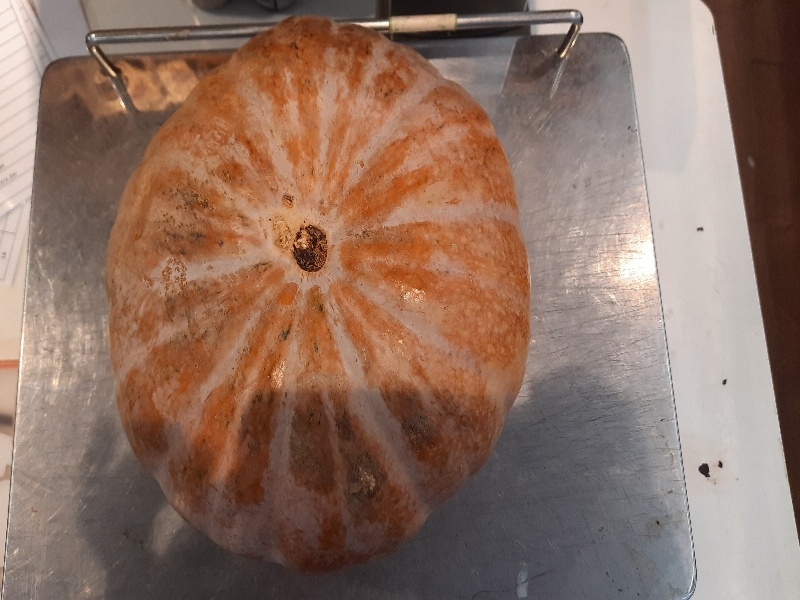vege: (98, 15, 536, 577)
